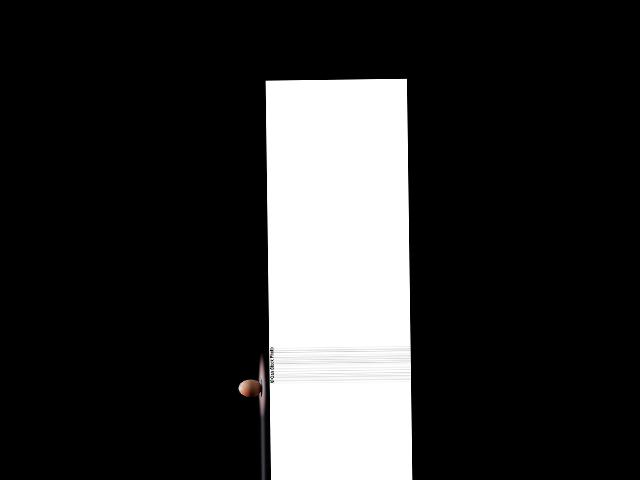egg: (238, 378, 262, 397)
